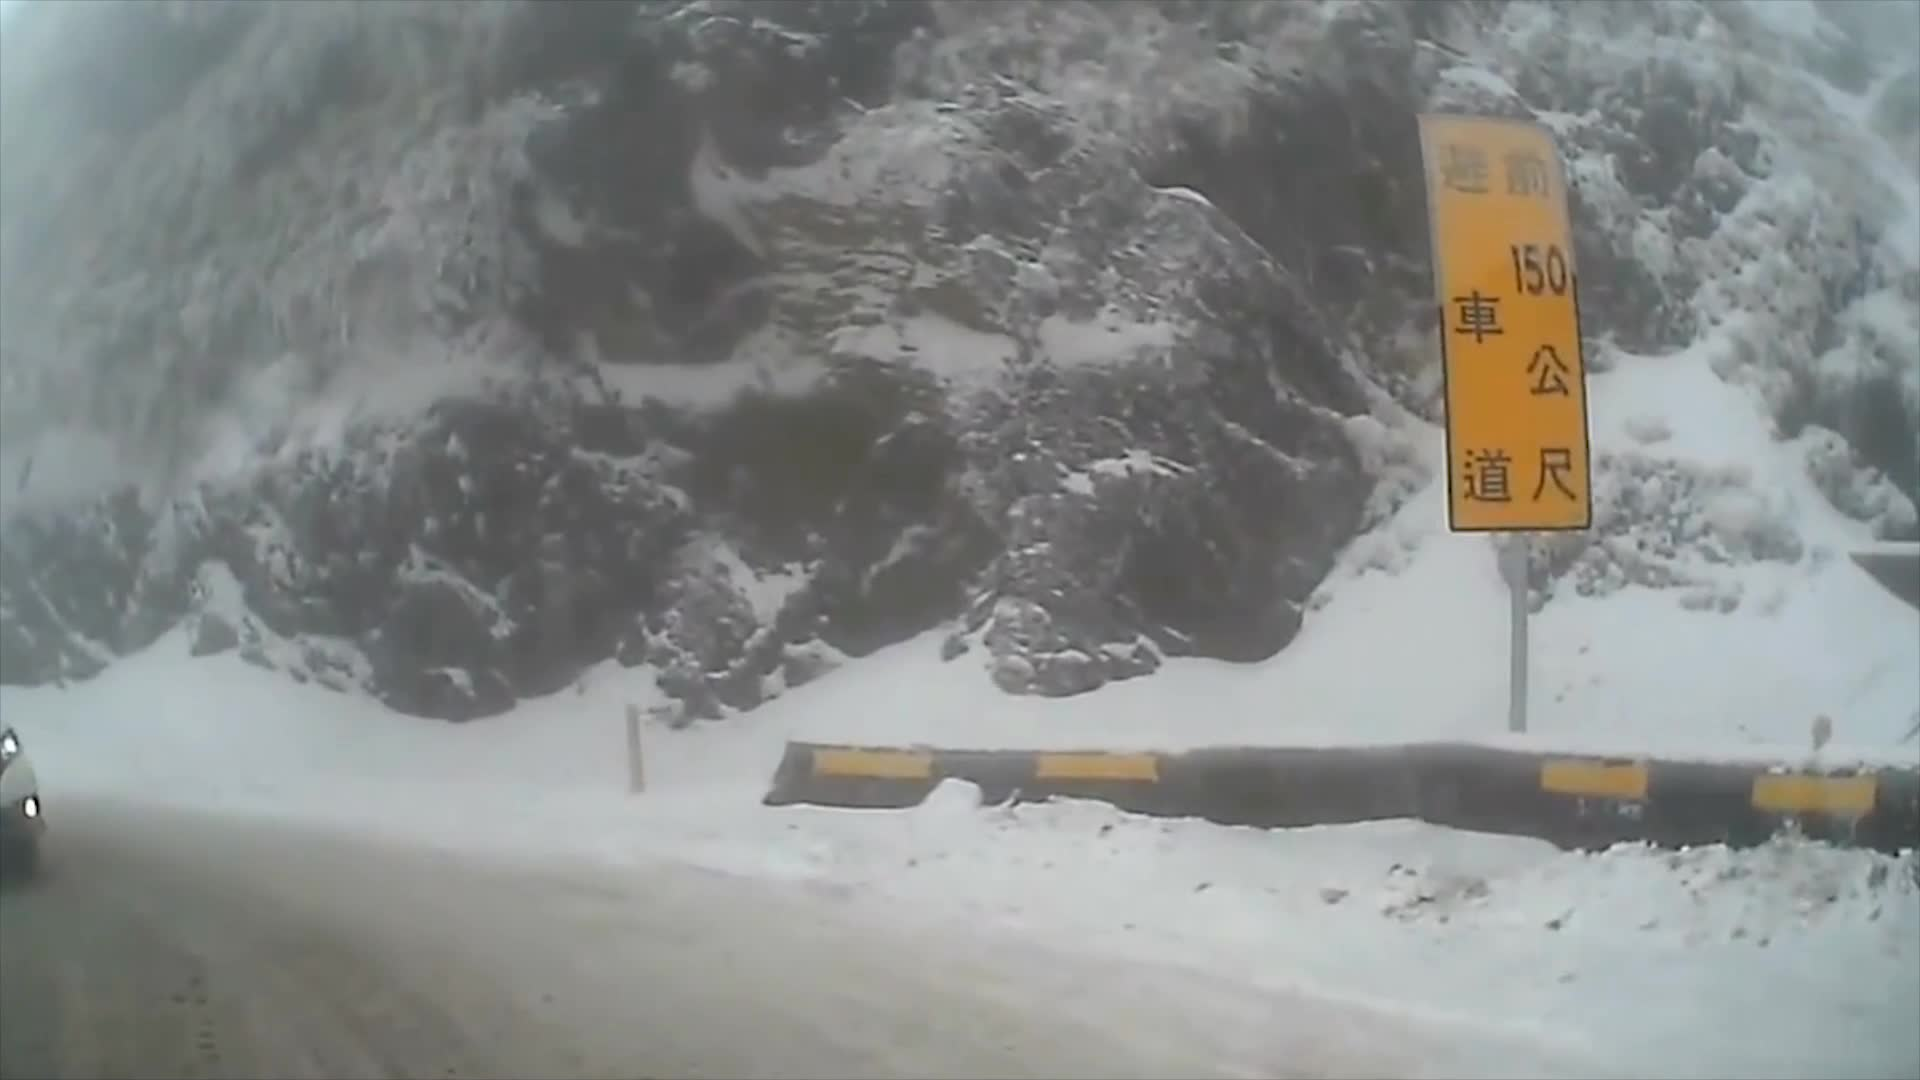vehicle: (0, 717, 44, 893)
